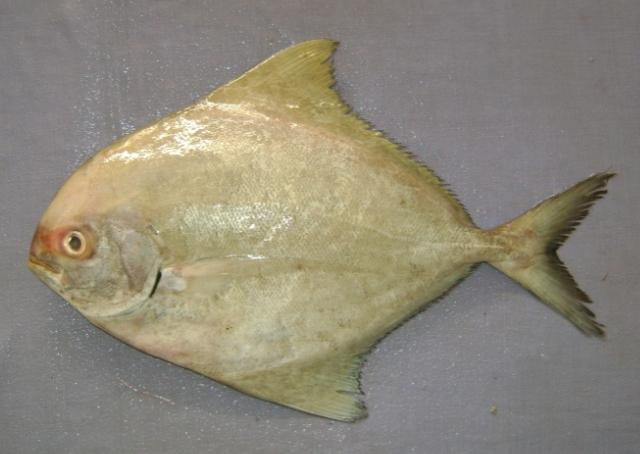Mulut: (18, 223, 68, 305)
Sirip Anal: (345, 253, 485, 353)
Sirip Dada: (130, 240, 388, 312)
Sirip Ekor: (478, 160, 628, 352)
Sirip Perut: (212, 342, 380, 438)
Sirip Punggung: (219, 27, 483, 236)
